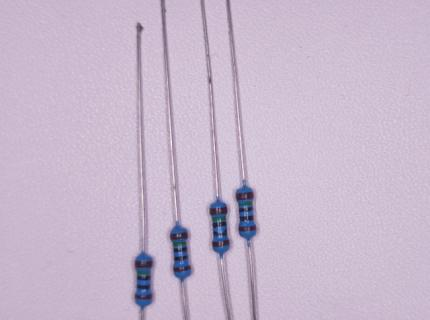Black band: (213, 221, 227, 228), (214, 230, 227, 237), (173, 247, 187, 253), (240, 215, 254, 221), (174, 255, 188, 260), (239, 207, 253, 212), (137, 284, 150, 289), (137, 276, 150, 280)
Brown band: (210, 207, 227, 215), (213, 239, 230, 247), (236, 192, 253, 200), (171, 232, 187, 240), (135, 293, 153, 300), (135, 261, 152, 268), (239, 225, 256, 231), (174, 266, 190, 272)
Green band: (212, 216, 226, 221), (239, 201, 252, 206), (137, 270, 150, 274), (173, 242, 186, 245)
